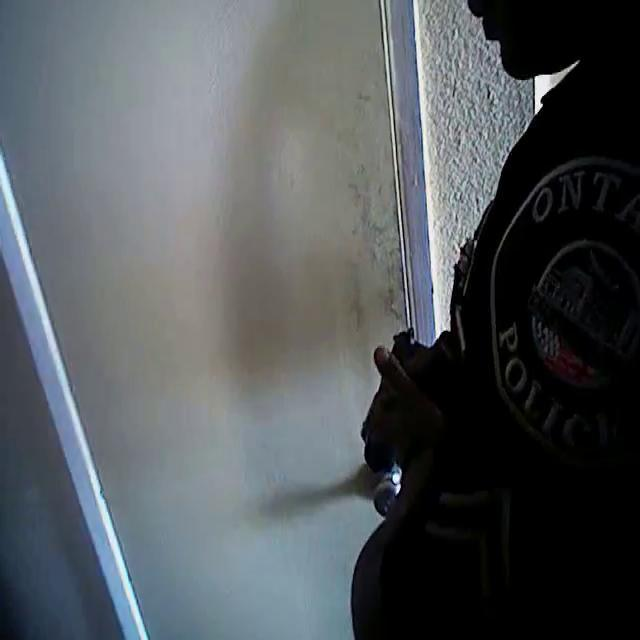gun: (337, 288, 465, 498)
